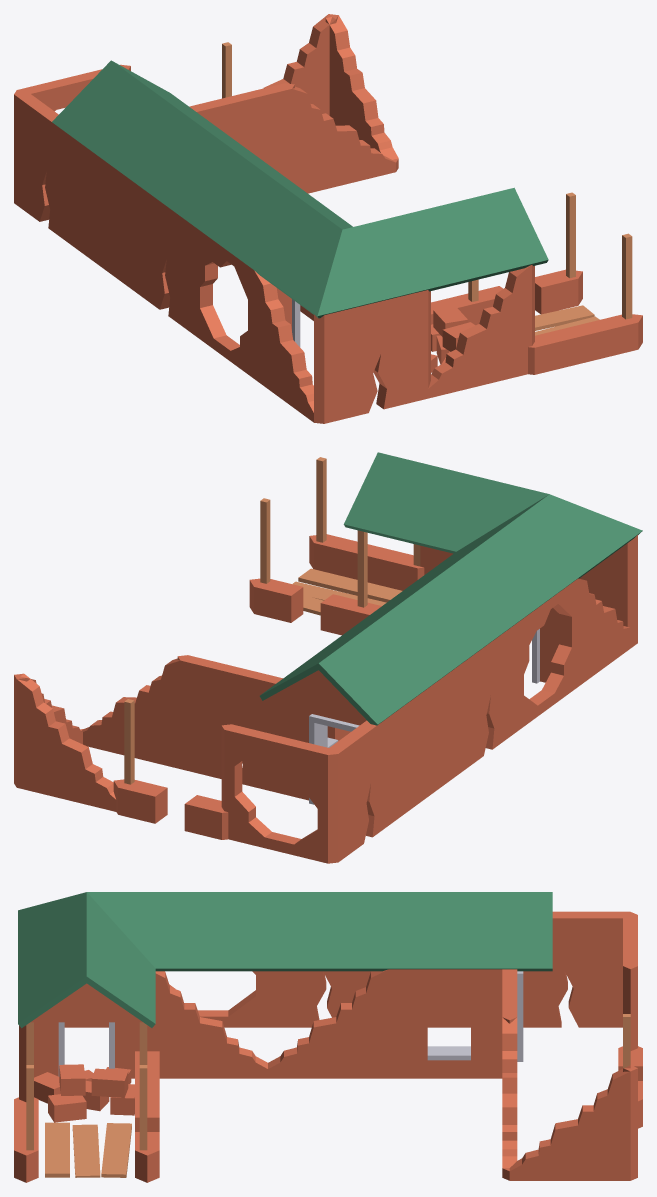
File: Casa 11 Semi Rota.obj
3 views of the same model, one above another, from view 1: azimuth 30°, elevation 25°; view 2: azimuth 150°, elevation 25°; view 3: azimuth 270°, elevation 25° (orthographic).
Bounding box in the file's own units: 3.17 × 1.44 × 5.21.
